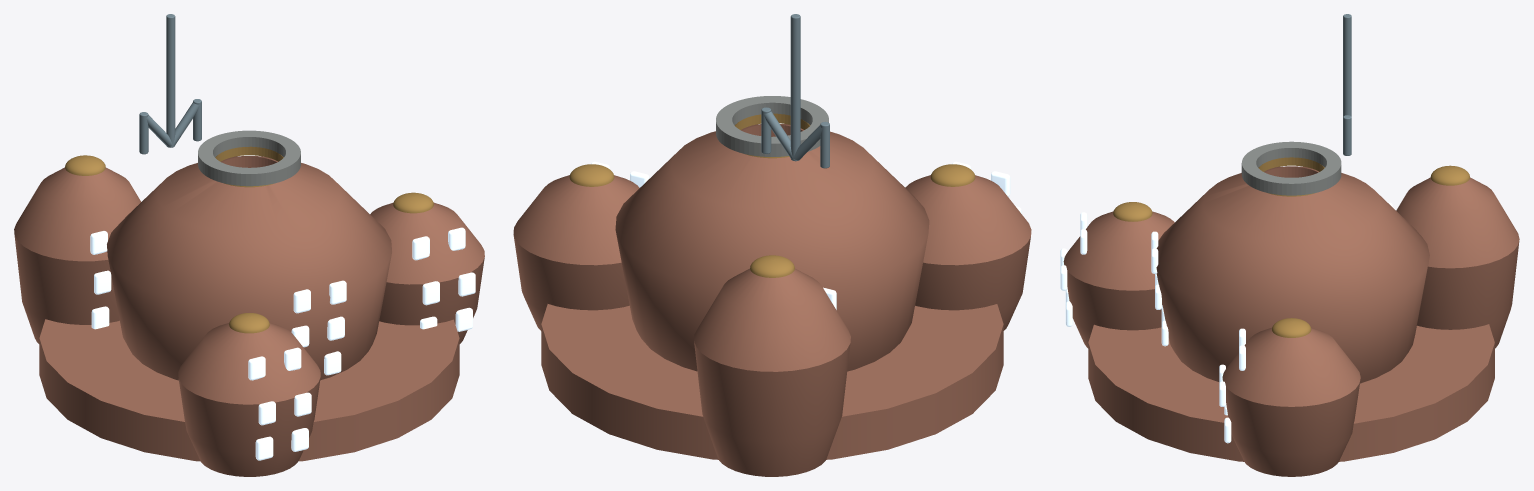
3 renders of one model, left to right at view 1: azimuth 30°, elevation 25°; view 2: azimuth 150°, elevation 25°; view 3: azimuth 270°, elevation 25°, orthographic. The views are drawn at different scales.
Parts seen in each view (by area): view 1: Bulb shaped chamber, Foundation drum, Bulb shaped chamber.003, Bulb shaped chamber.002, Bulb shaped chamber.001, Permanently exposed emitter collar, Aerial stem, Tower crown.001, Tower crown.002, Tower crown.003, Tower crown; view 2: Bulb shaped chamber, Foundation drum, Bulb shaped chamber.002, Bulb shaped chamber.003, Bulb shaped chamber.001, Permanently exposed emitter collar, Aerial stem, Tower crown.001, Tower crown.002, Tower crown.003, Tower crown; view 3: Bulb shaped chamber, Foundation drum, Bulb shaped chamber.001, Bulb shaped chamber.002, Bulb shaped chamber.003, Permanently exposed emitter collar, Aerial stem, Tower crown.002, Tower crown.003, Tower crown.001, Tower crown.
Part boxes in pixels (left/top/right/bottom): Bulb shaped chamber: left=107, top=156, right=391, bottom=380; Foundation drum: left=39, top=319, right=459, bottom=461; Bulb shaped chamber.003: left=178, top=323, right=320, bottom=476; Bulb shaped chamber.002: left=14, top=167, right=140, bottom=343; Bulb shaped chamber.001: left=370, top=202, right=484, bottom=343; Permanently exposed emitter collar: left=198, top=130, right=300, bottom=186; Aerial stem: left=166, top=14, right=175, bottom=147; Tower crown.001: left=393, top=192, right=433, bottom=213; Tower crown.002: left=65, top=155, right=105, bottom=175; Tower crown.003: left=229, top=313, right=269, bottom=333; Tower crown: left=215, top=146, right=283, bottom=187; Bulb shaped chamber: left=615, top=124, right=929, bottom=371; Foundation drum: left=541, top=304, right=1003, bottom=459; Bulb shaped chamber.002: left=694, top=268, right=850, bottom=476; Bulb shaped chamber.003: left=905, top=175, right=1031, bottom=330; Bulb shaped chamber.001: left=513, top=175, right=639, bottom=330; Permanently exposed emitter collar: left=716, top=96, right=828, bottom=156; Aerial stem: left=790, top=14, right=800, bottom=161; Tower crown.001: left=569, top=164, right=614, bottom=186; Tower crown.002: left=750, top=255, right=794, bottom=277; Tower crown.003: left=930, top=164, right=975, bottom=186; Tower crown: left=734, top=113, right=810, bottom=158; Bulb shaped chamber: left=1156, top=166, right=1429, bottom=383; Foundation drum: left=1088, top=324, right=1494, bottom=461; Bulb shaped chamber.001: left=1222, top=327, right=1360, bottom=476; Bulb shaped chamber.002: left=1396, top=177, right=1519, bottom=348; Bulb shaped chamber.003: left=1063, top=211, right=1174, bottom=348; Permanently exposed emitter collar: left=1241, top=141, right=1341, bottom=195; Aerial stem: left=1343, top=14, right=1351, bottom=116; Tower crown.002: left=1430, top=165, right=1469, bottom=185; Tower crown.003: left=1113, top=202, right=1152, bottom=221; Tower crown.001: left=1272, top=318, right=1311, bottom=337; Tower crown: left=1258, top=157, right=1324, bottom=196.
Bounding box in the file's own units: 2.29 × 1.88 × 2.3.
